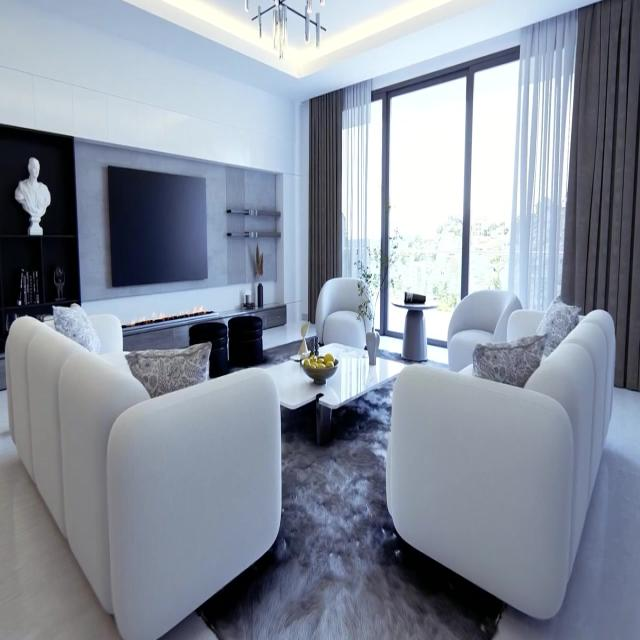obstacle: (4, 307, 282, 638), (385, 303, 616, 621), (314, 276, 374, 350), (390, 296, 438, 362)
